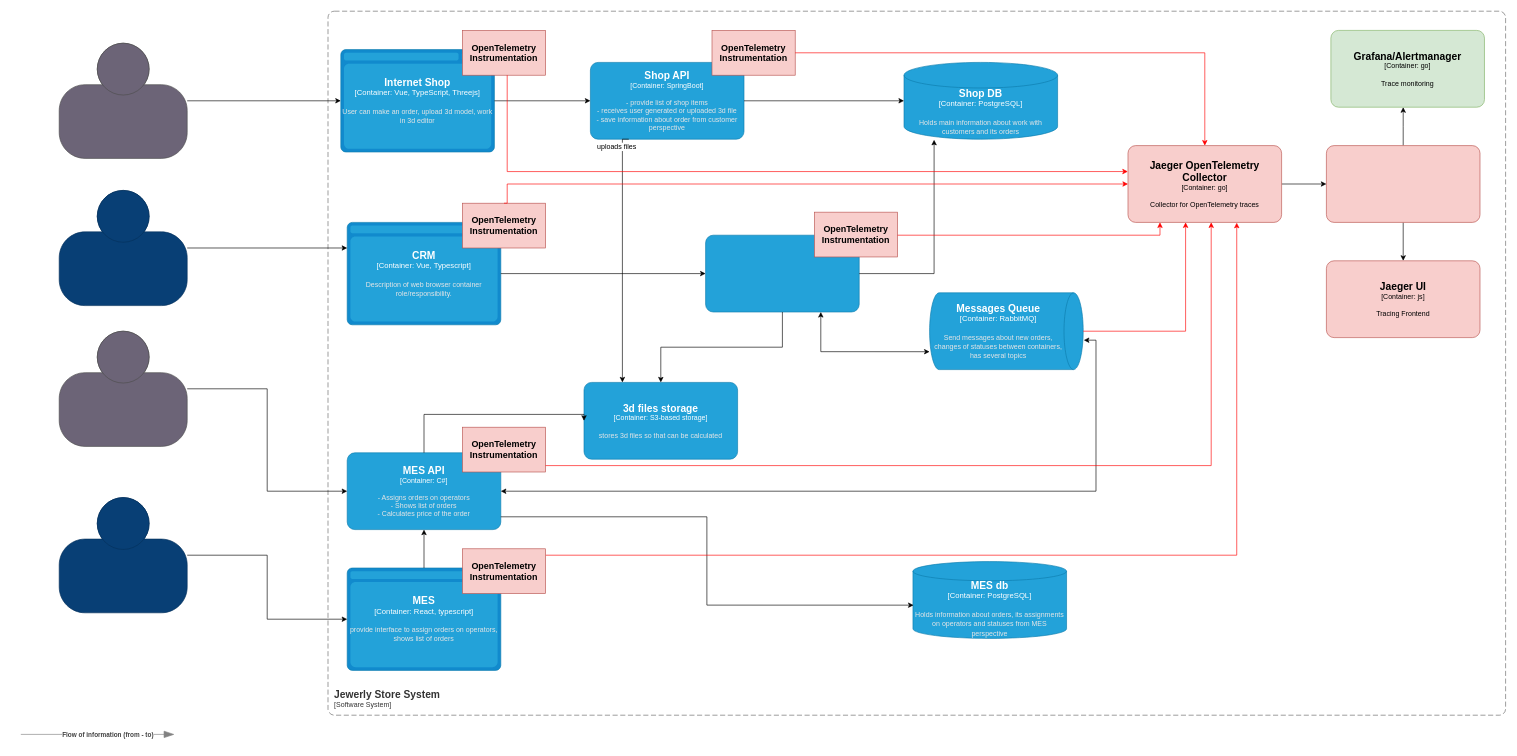
The diagram is 1517 pixels wide and 756 high, and some of its shapes have lost their labels. The centre of each missing label's shape, as x and y in pixels:
API user [Person] Description of external person.: [123,388]
CRM API [Container: SpringBoot] Description of container role/responsibility.: [782,273]
Customer [Person] Description of external person.: [123,100]
Jaeger [Container: go] Tracing Backend: [1403,183]
Operator [Person] Takes order in work, manufactures jewerly: [123,555]
Seller [Person] Operates with order, confirms manufacturing for the user: [123,248]
